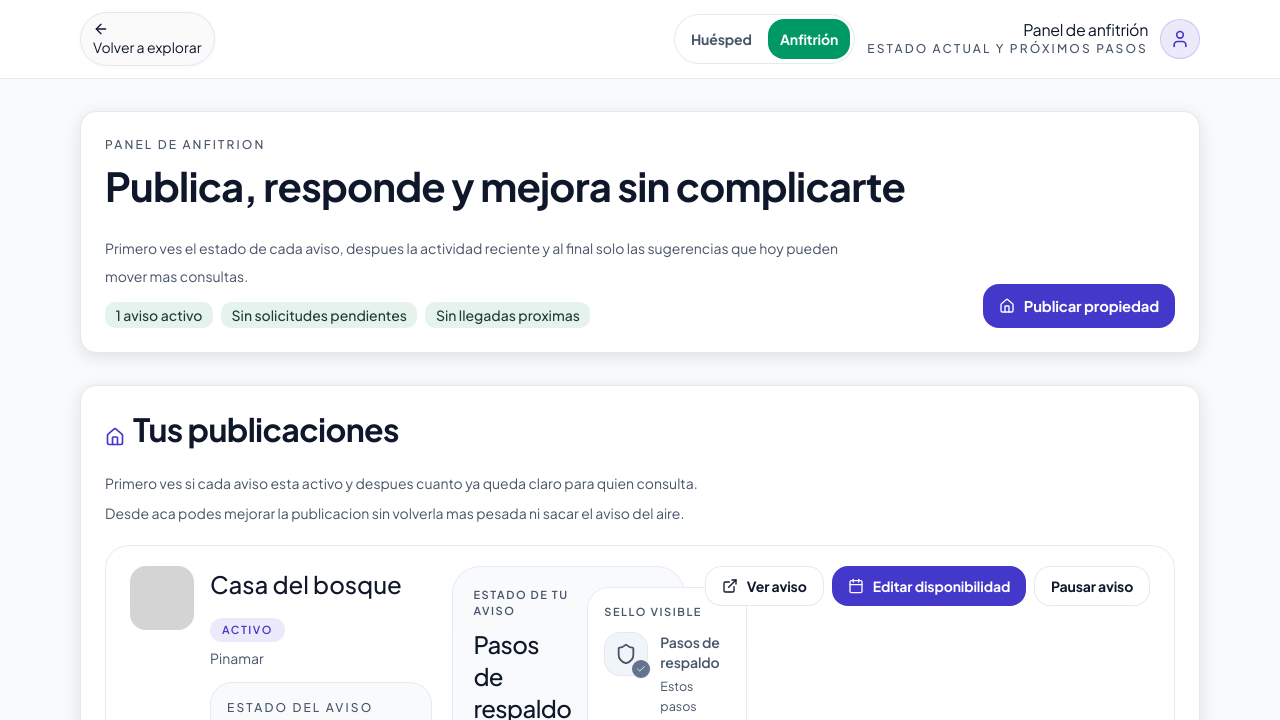
Test: HostDashboard › updates property status without refetching the whole dashboard
The image size is (1280, 720).
Expected: the heading "Casa del bosque" is shown, [210,566,402,602]
Click the button "Pausar aviso". click: (1092, 586)
box: [1034,566,1150,606]
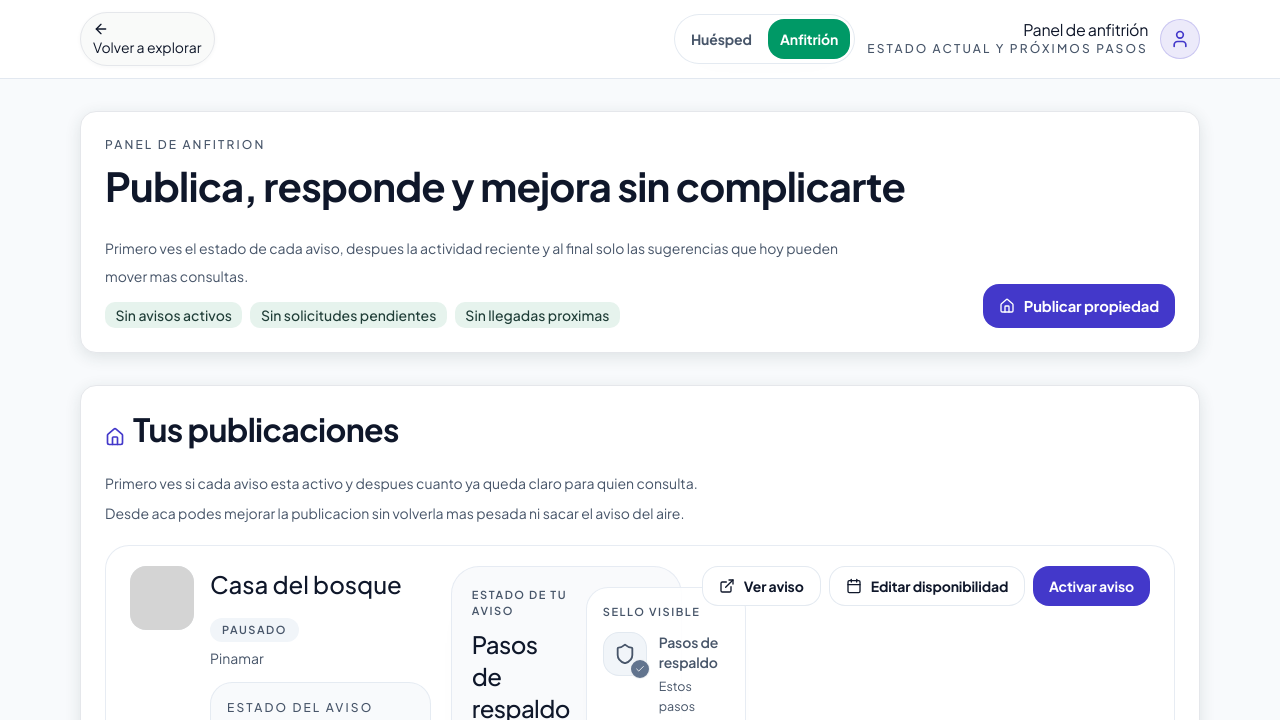
Now the text "Pausado" is shown, box [210,618,299,642]
